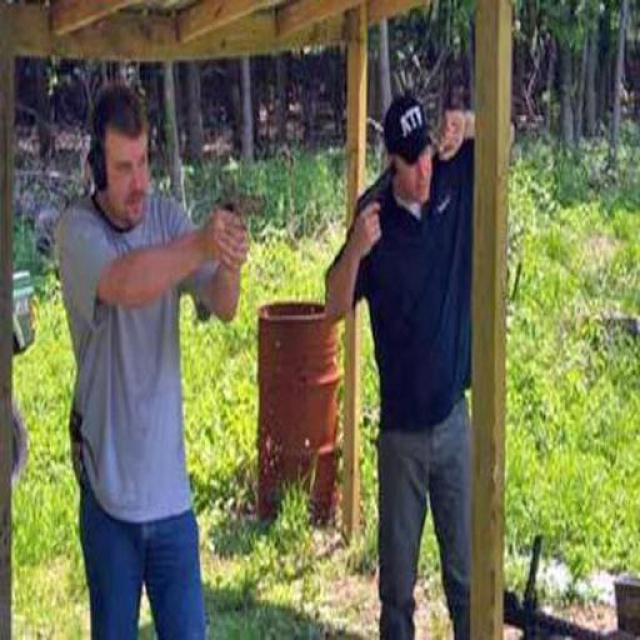pistol: (210, 165, 276, 265), (350, 156, 396, 240)
